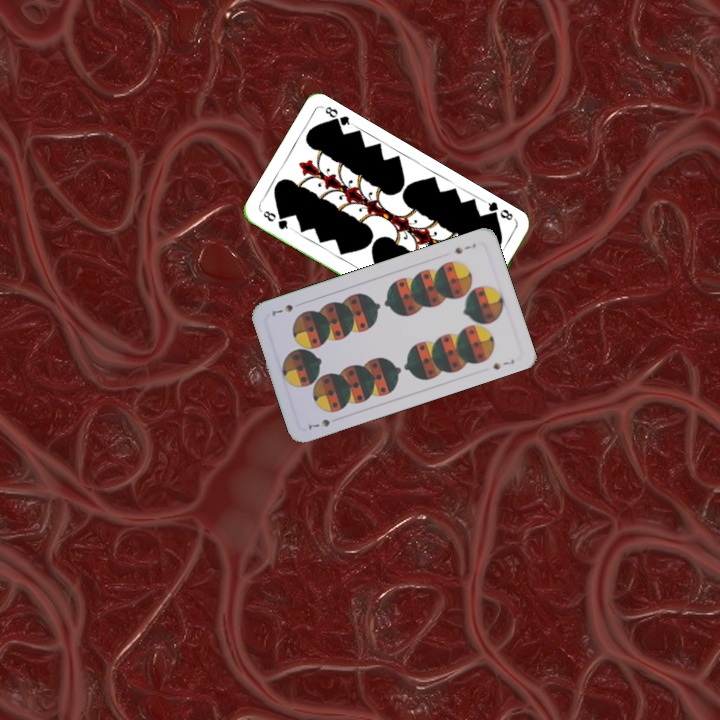G8: (482, 197, 519, 224), (259, 206, 294, 233)
S7: (304, 415, 333, 432), (450, 239, 478, 256)
